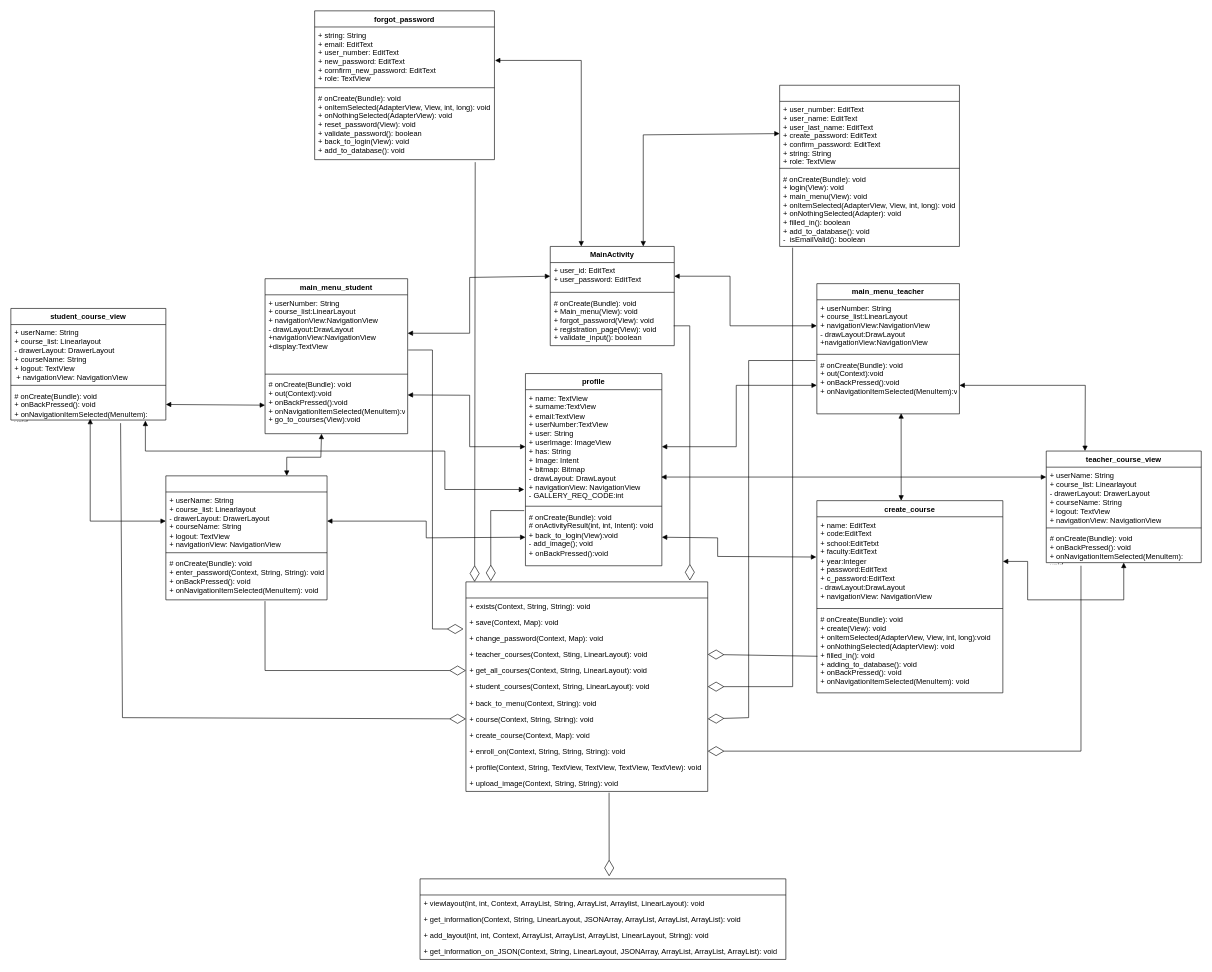
Image size: 1212x972. Some labels were removed from this diagram. The shapes that lost their labels are listed below. From the top down, each one's box as (x1, y1, x2, y2) in pixels, then its label:
(779, 85, 959, 246): register_page
(165, 475, 327, 600): search_courses
(465, 581, 708, 791): DataBase
(419, 878, 786, 959): ViewClass
